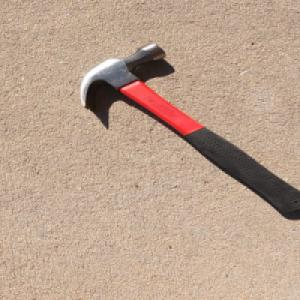Hammer: (75, 40, 300, 221)
